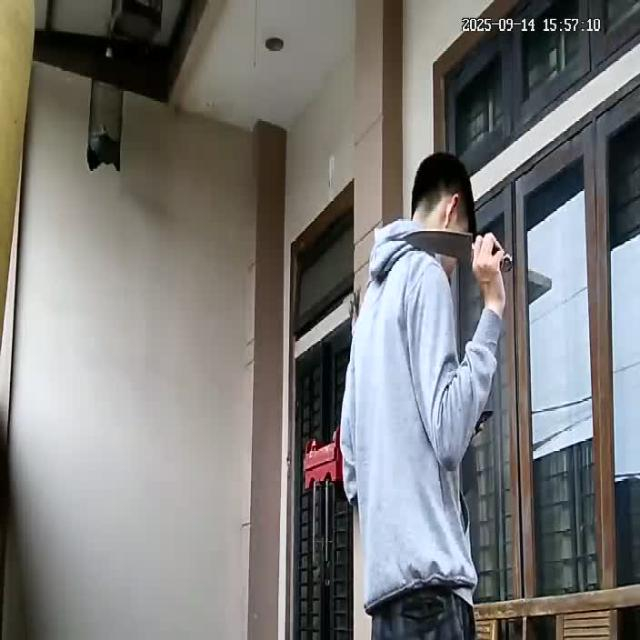senjata_tajam: (402, 228, 474, 264)
